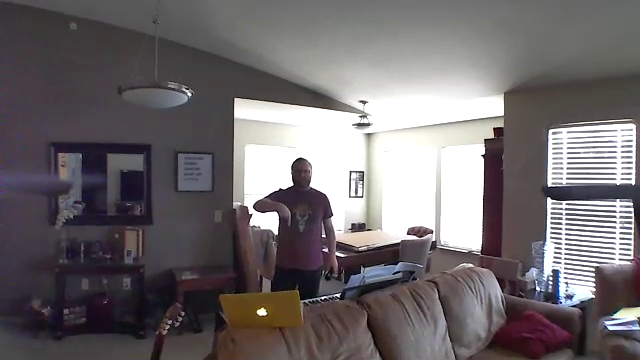down: (275, 195, 292, 231)
